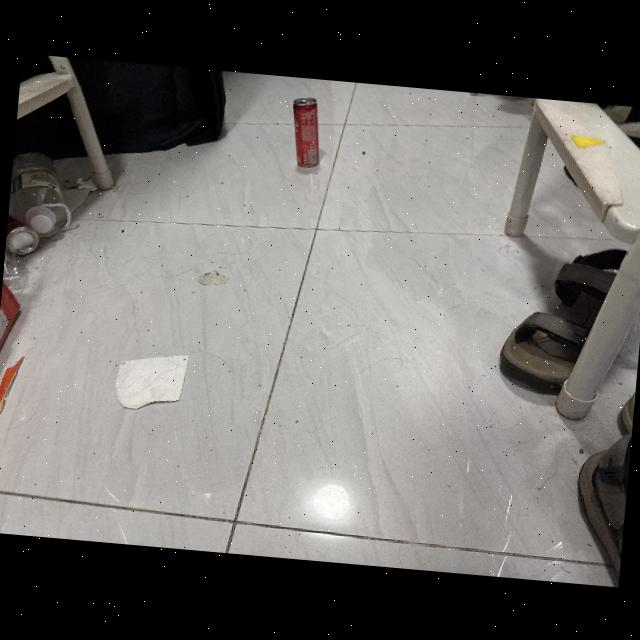Cola: (280, 93, 329, 171)
